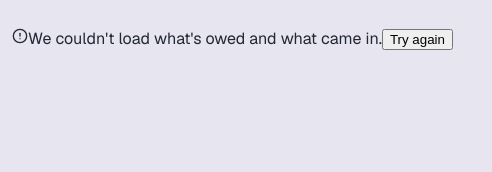
Test: load error with retry
Expected: the message "We couldn't load what's owed and what came in. Try again" is shown, [12,28,453,50]
What coordinates should you click on to do the following:
click the button "Try again"
I would click on:
 (417, 40)
Its box is [382,29,453,50].
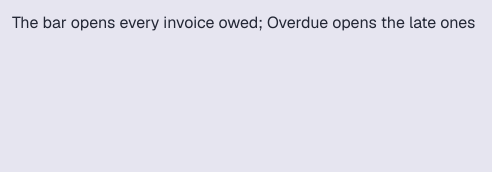
Expected: the message "We couldn't load what's owed and what came in. Try again" is gone
